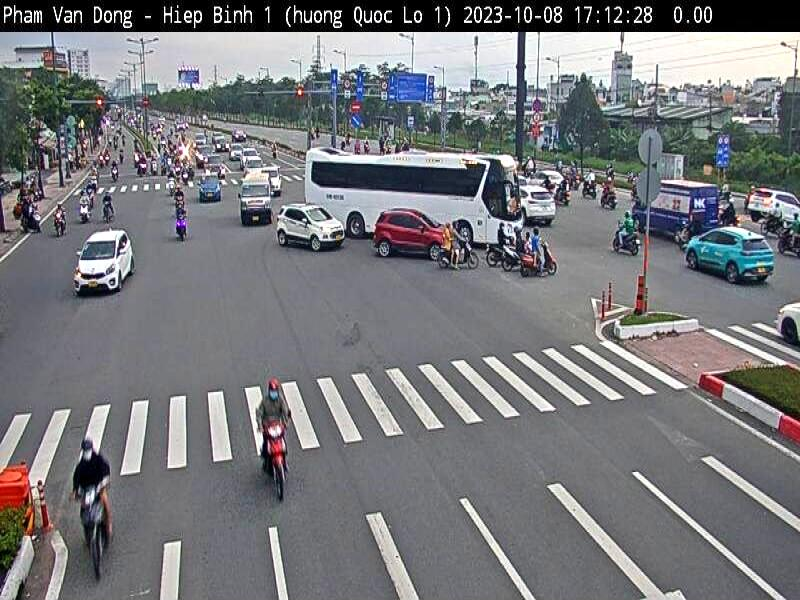bus: (302, 140, 532, 256)
car: (680, 218, 780, 306), (358, 204, 458, 272), (71, 222, 145, 294), (275, 200, 348, 259), (238, 169, 282, 229), (197, 176, 229, 205)
